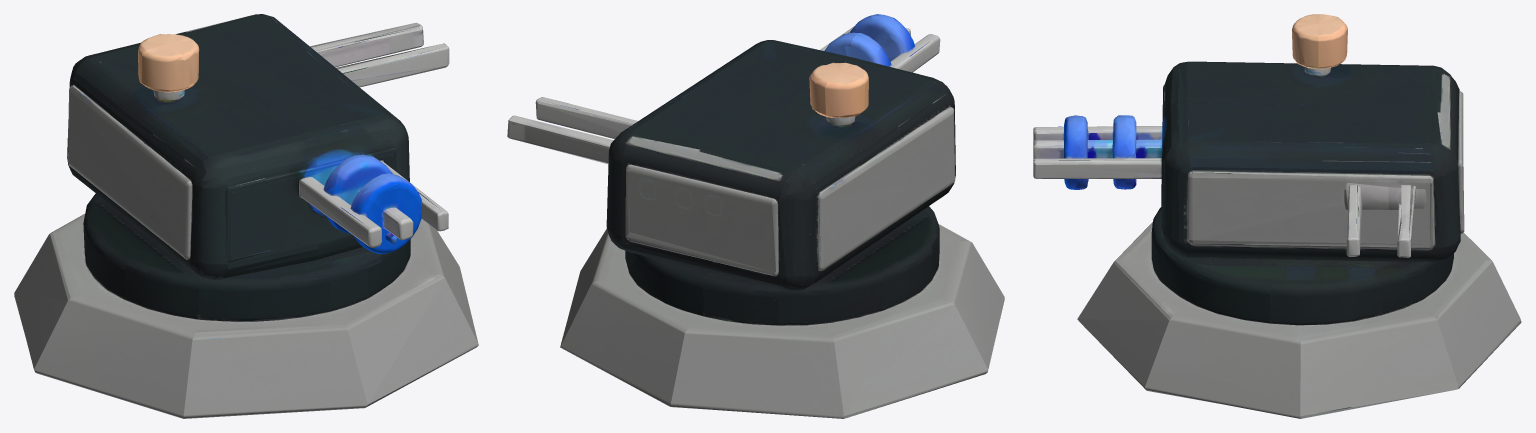
The model's file is pulse-turret.glb.
3 views of the same model, side by side, from view 1: azimuth 30°, elevation 25°; view 2: azimuth 150°, elevation 25°; view 3: azimuth 270°, elevation 25° (orthographic). The views are drawn at different scales.
Size of the model in its own units: 0.9785 by 0.6094 by 1.
Materials: 1 (1 with a texture image).
